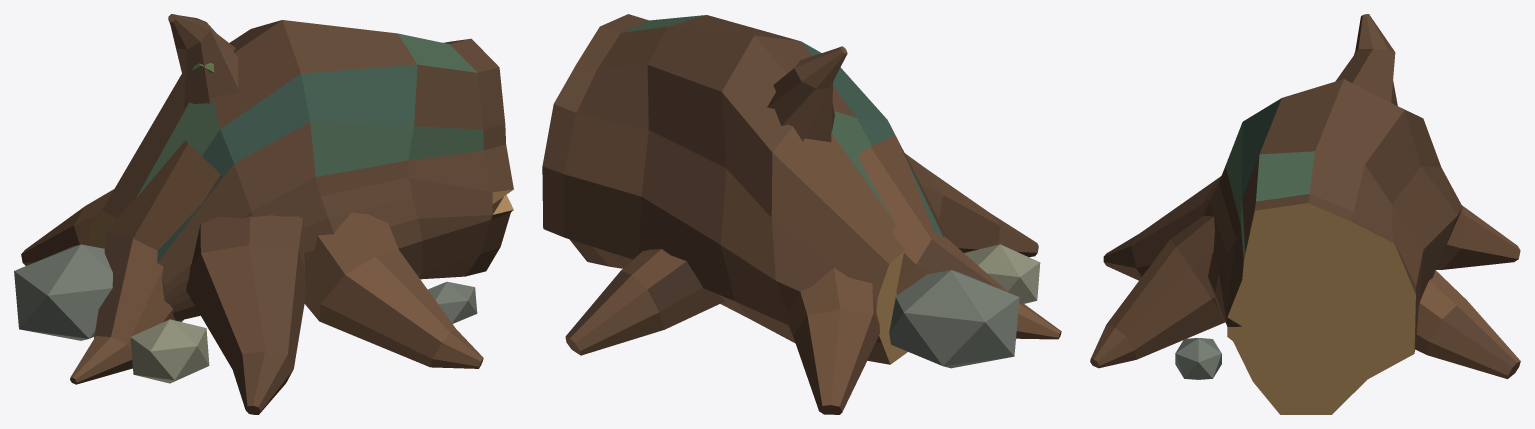
File: rootfall-left.glb
3 renders of one model, left to right at view 1: azimuth 30°, elevation 25°; view 2: azimuth 150°, elevation 25°; view 3: azimuth 270°, elevation 25°, orthographic. The views are drawn at different scales.
Visible parts, largest first — view 1: rootfall-left; view 2: rootfall-left; view 3: rootfall-left.
Boxes of the visible parts, x1,y1,x2,y2 form: rootfall-left: (14,14,513,414); rootfall-left: (542,14,1061,414); rootfall-left: (1090,14,1520,414).
Bounding box in the file's own units: 5.26 × 3.47 × 4.78.
Materials: 1 (1 with a texture image).
